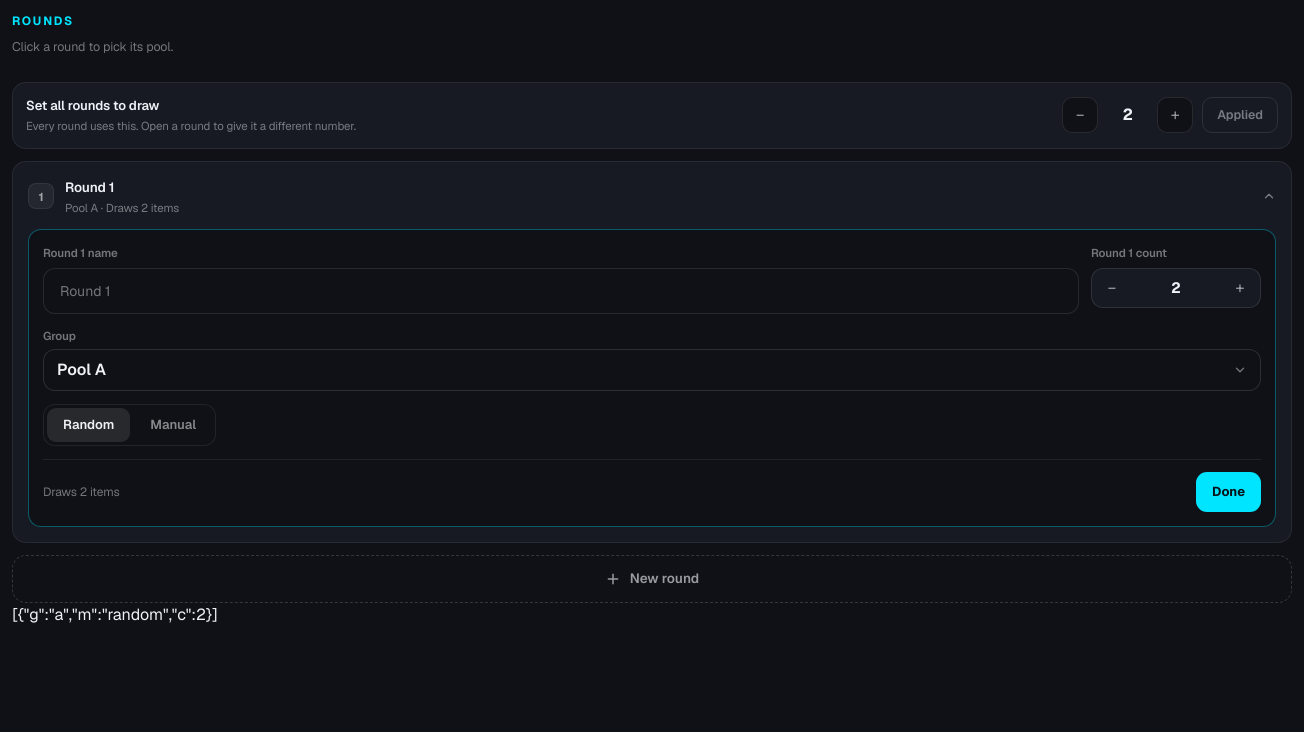
it: RoundsEditor › appends a round drawing from the first pool
Click the button "New round" at (652, 578), box [12,554,1292,602]
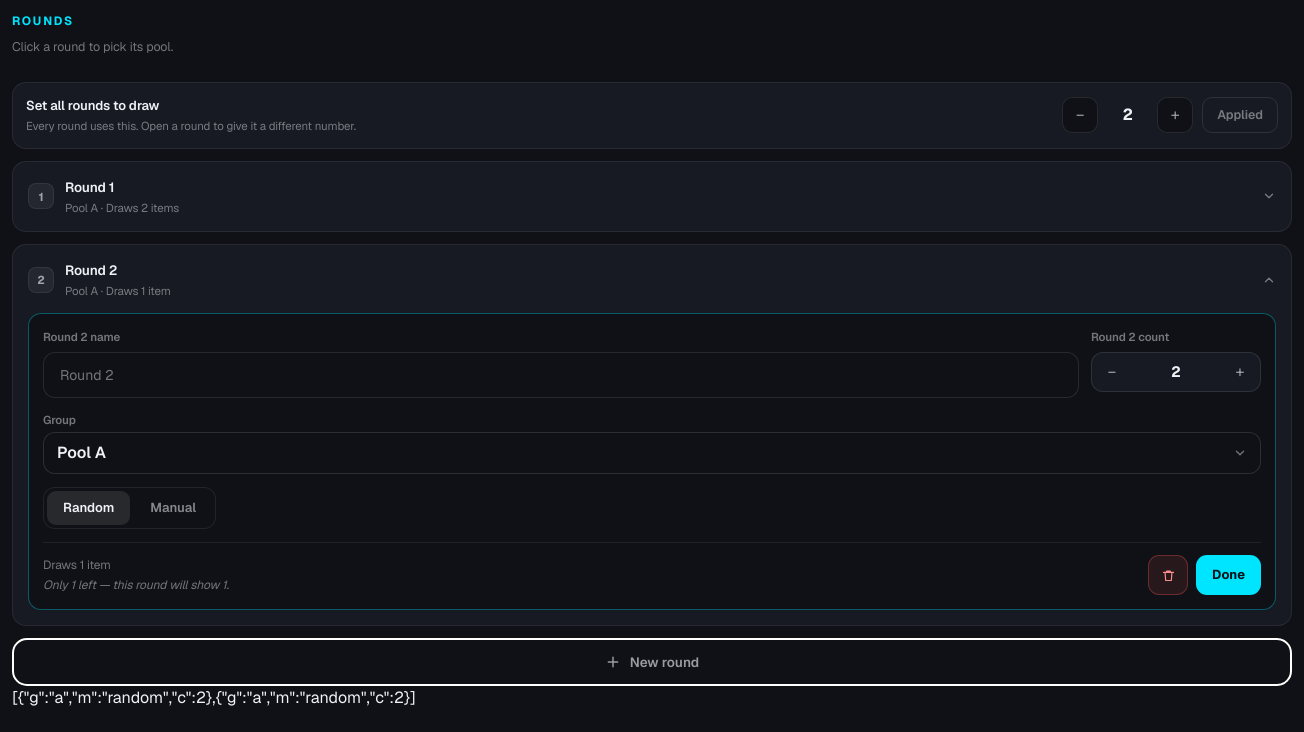
Expected: the field named "Round 2 name" is shown, [43,352,1079,398]
